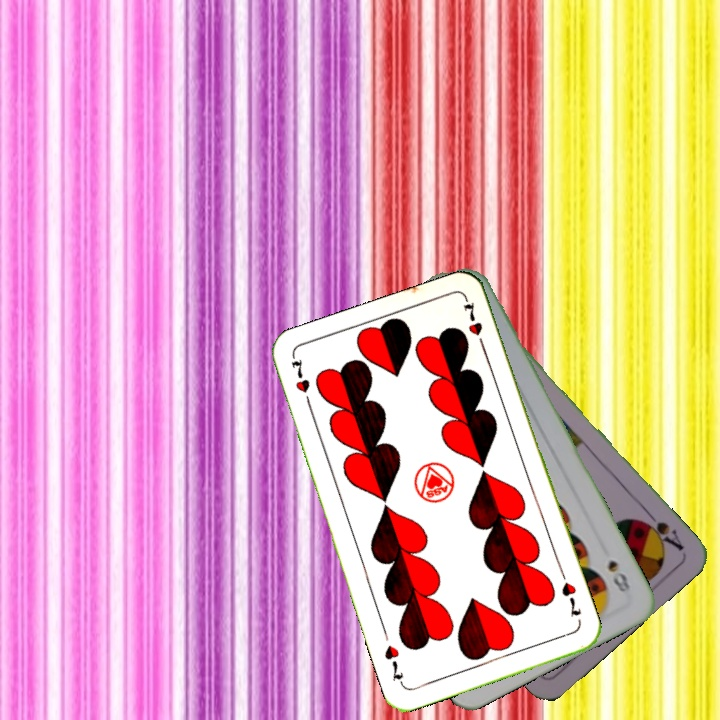H7: (287, 353, 314, 411), (557, 578, 584, 620)
S8: (603, 556, 633, 595)
SA: (636, 506, 687, 554)
